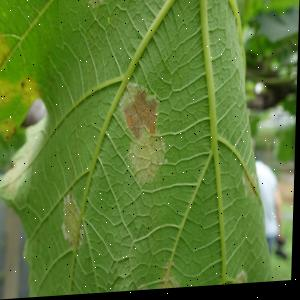Folha: (0, 0, 285, 300)
Fungo: (117, 81, 169, 191), (118, 81, 160, 144), (126, 134, 168, 190), (62, 192, 87, 252), (151, 252, 183, 292), (16, 73, 41, 108), (0, 27, 15, 76), (241, 168, 260, 205), (233, 264, 252, 287), (1, 117, 18, 142), (0, 76, 13, 105), (77, 0, 113, 9), (136, 276, 154, 293)
